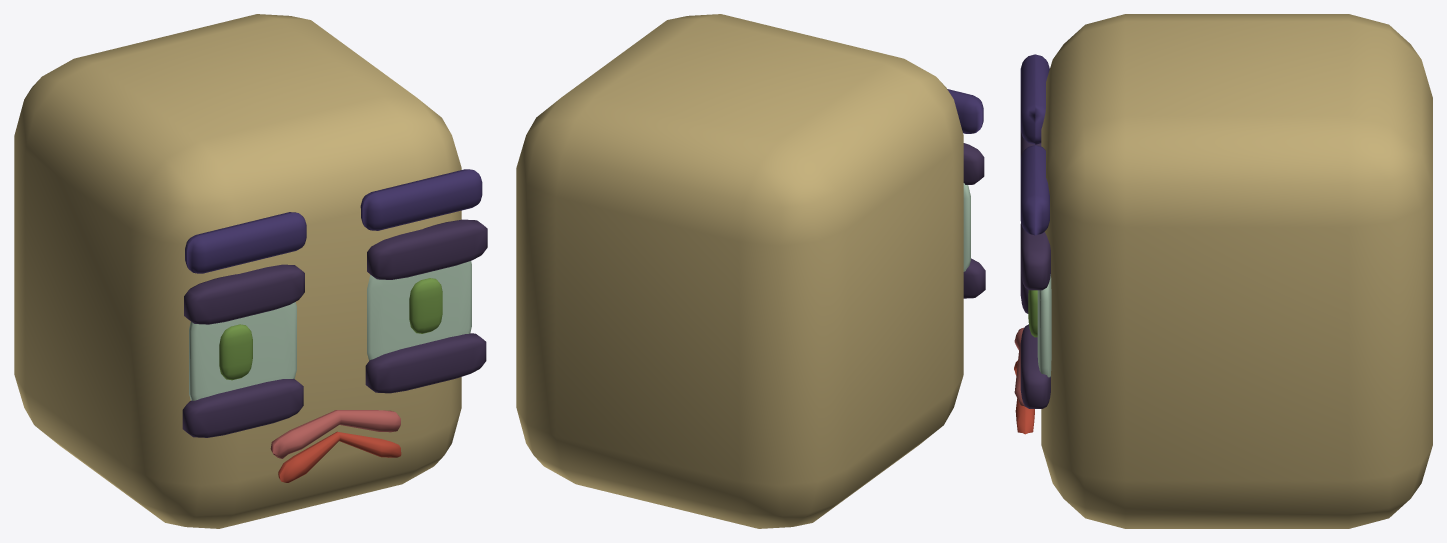
The model's file is HeadRobot_EyeV2.glb.
3 views of the same model, side by side, from view 1: azimuth 30°, elevation 25°; view 2: azimuth 150°, elevation 25°; view 3: azimuth 270°, elevation 25° (orthographic). The views are drawn at different scales.
Parts seen in each view (by area): view 1: Head; view 2: Head; view 3: Head.
Part boxes in pixels (x1=…): Head: x1=14, y1=14, x2=487, y2=528; Head: x1=516, y1=14, x2=985, y2=528; Head: x1=1014, y1=14, x2=1432, y2=528.
Size of the model in its own units: 0.7 by 0.8 by 0.7489.
